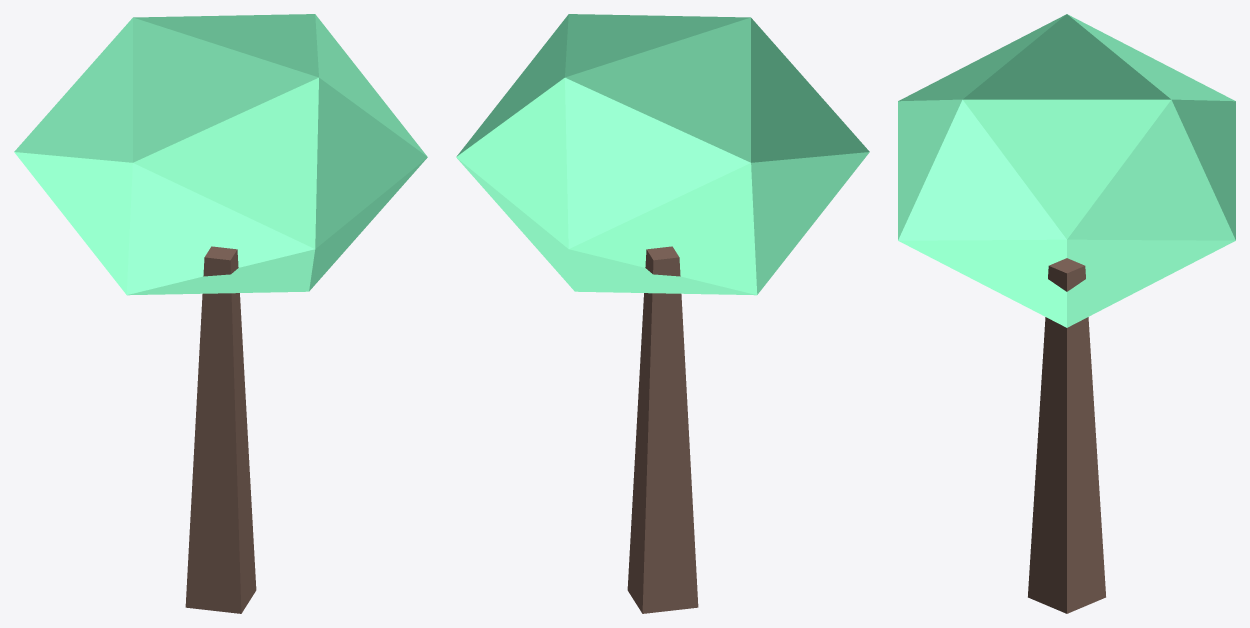
The model's file is giant_heartwood_far.glb.
3 renders of one model, left to right at view 1: azimuth 30°, elevation 25°; view 2: azimuth 150°, elevation 25°; view 3: azimuth 270°, elevation 25°, orthographic. The views are drawn at different scales.
Parts seen in each view (by area): view 1: giant_heartwood_far; view 2: giant_heartwood_far; view 3: giant_heartwood_far.
Boxes of the visible parts, x1,y1,x2,y2 form: giant_heartwood_far: [14, 14, 427, 613]; giant_heartwood_far: [456, 14, 869, 613]; giant_heartwood_far: [898, 14, 1235, 613].
Bounding box in the file's own units: 6.46 × 11.38 × 6.46.
